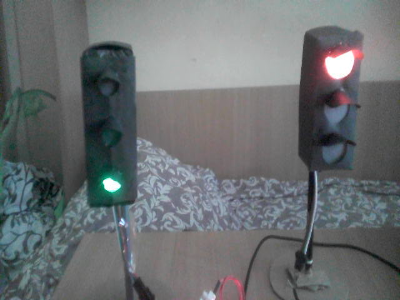trafficlight_green: (86, 51, 137, 204)
trafficlight_red: (313, 37, 363, 169)
